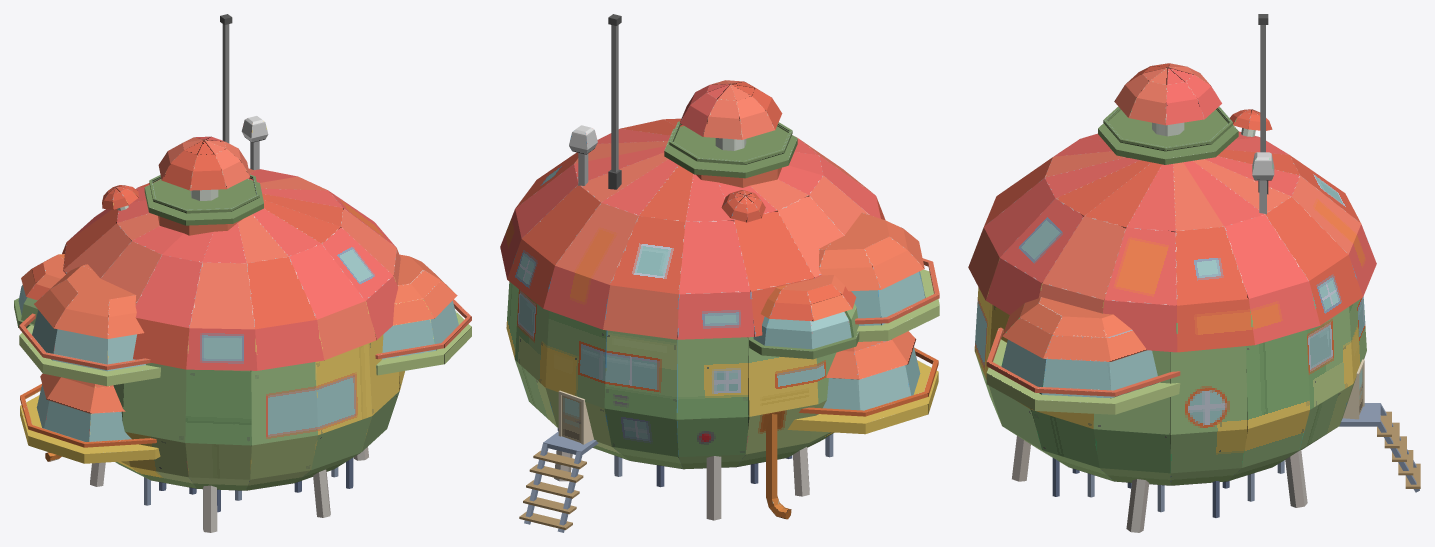
File: F.ber_house_3.gltf
3 views of the same model, side by side, from view 1: azimuth 30°, elevation 25°; view 2: azimuth 150°, elevation 25°; view 3: azimuth 270°, elevation 25° (orthographic). The views are drawn at different scales.
Visible parts, largest first — view 1: cuboid; view 2: cuboid; view 3: cuboid.
Part boxes in pixels (x1,y1,x2,y2): cuboid: (14,14,471,532); cuboid: (500,14,939,532); cuboid: (968,14,1420,532).
Bounding box in the file's own units: 12.78 × 13.01 × 11.32.
Materials: 1 (1 with a texture image).
